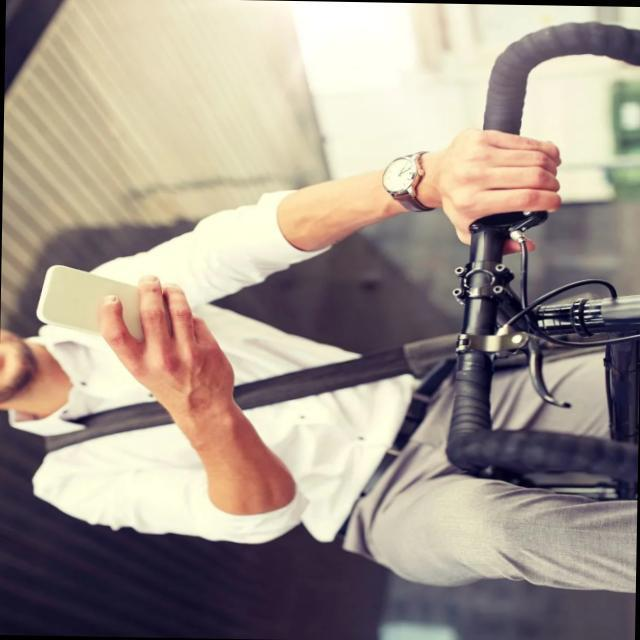use_mobile: (39, 263, 237, 420)
